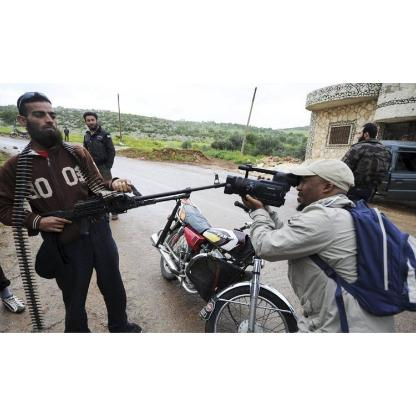gun: (35, 177, 224, 235)
